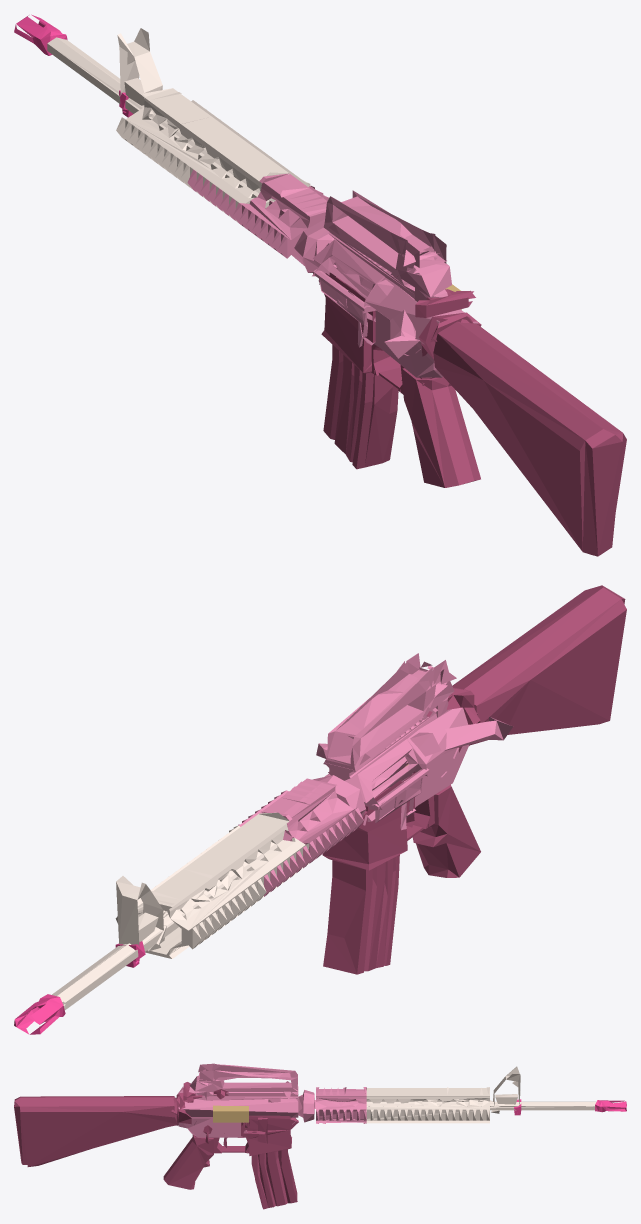
The model's file is Rifle_M16A4.obj.
3 renders of one model, top to bottom at view 1: azimuth 30°, elevation 25°; view 2: azimuth 150°, elevation 25°; view 3: azimuth 270°, elevation 25°, orthographic. The views are drawn at different scales.
Visible parts, largest first — view 1: Grip, Body, Mag, Panel, Accent; view 2: Body, Grip, Panel, Mag, Accent; view 3: Grip, Body, Panel, Mag, Bolt, Accent.
Part boxes in pixels (x1=…): Grip: x1=395, y1=276, x2=626, y2=556; Body: x1=187, y1=169, x2=478, y2=377; Mag: x1=318, y1=268, x2=480, y2=487; Panel: x1=47, y1=28, x2=314, y2=222; Accent: x1=14, y1=14, x2=133, y2=117; Body: x1=238, y1=653, x2=513, y2=896; Grip: x1=426, y1=585, x2=626, y2=752; Panel: x1=52, y1=812, x2=309, y2=1009; Mag: x1=322, y1=771, x2=480, y2=974; Accent: x1=14, y1=941, x2=145, y2=1034; Grip: x1=14, y1=1082, x2=228, y2=1166; Body: x1=177, y1=1063, x2=366, y2=1137; Panel: x1=366, y1=1066, x2=596, y2=1123; Mag: x1=163, y1=1115, x2=298, y2=1209; Bolt: x1=213, y1=1105, x2=248, y2=1122; Accent: x1=514, y1=1099, x2=626, y2=1115.
Bounding box in the file's own units: 0.363 × 0.8447 × 3.4.
